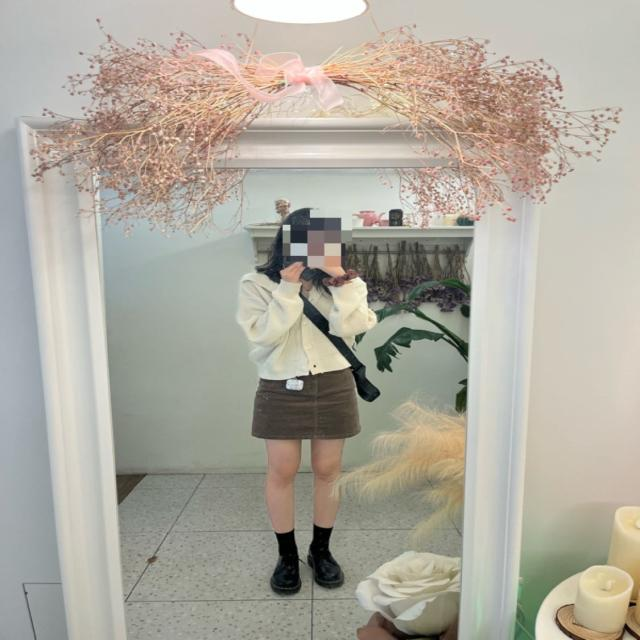cardigan: (234, 266, 384, 381)
skirt: (248, 366, 356, 434)
